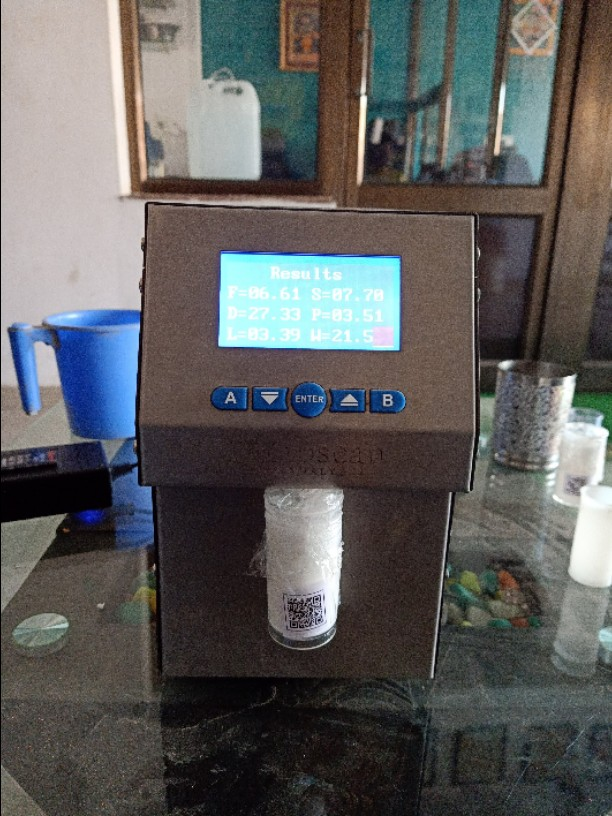lcd: (201, 246, 416, 363)
qr: (275, 590, 348, 642)
